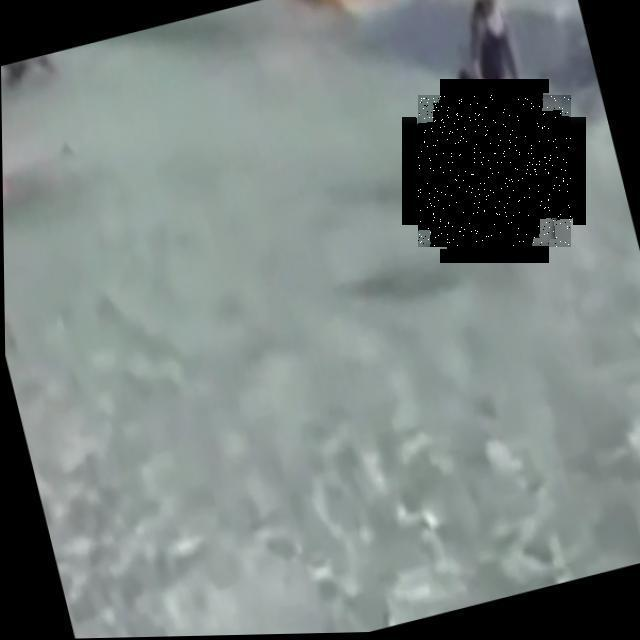swimming: (418, 95, 571, 247)
